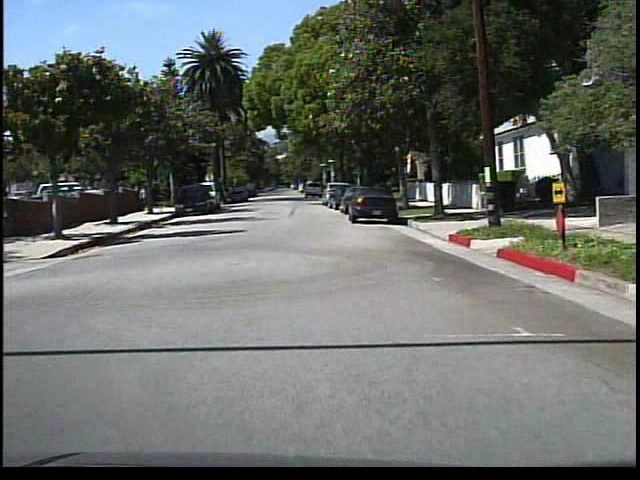person: (138, 183, 153, 213)
